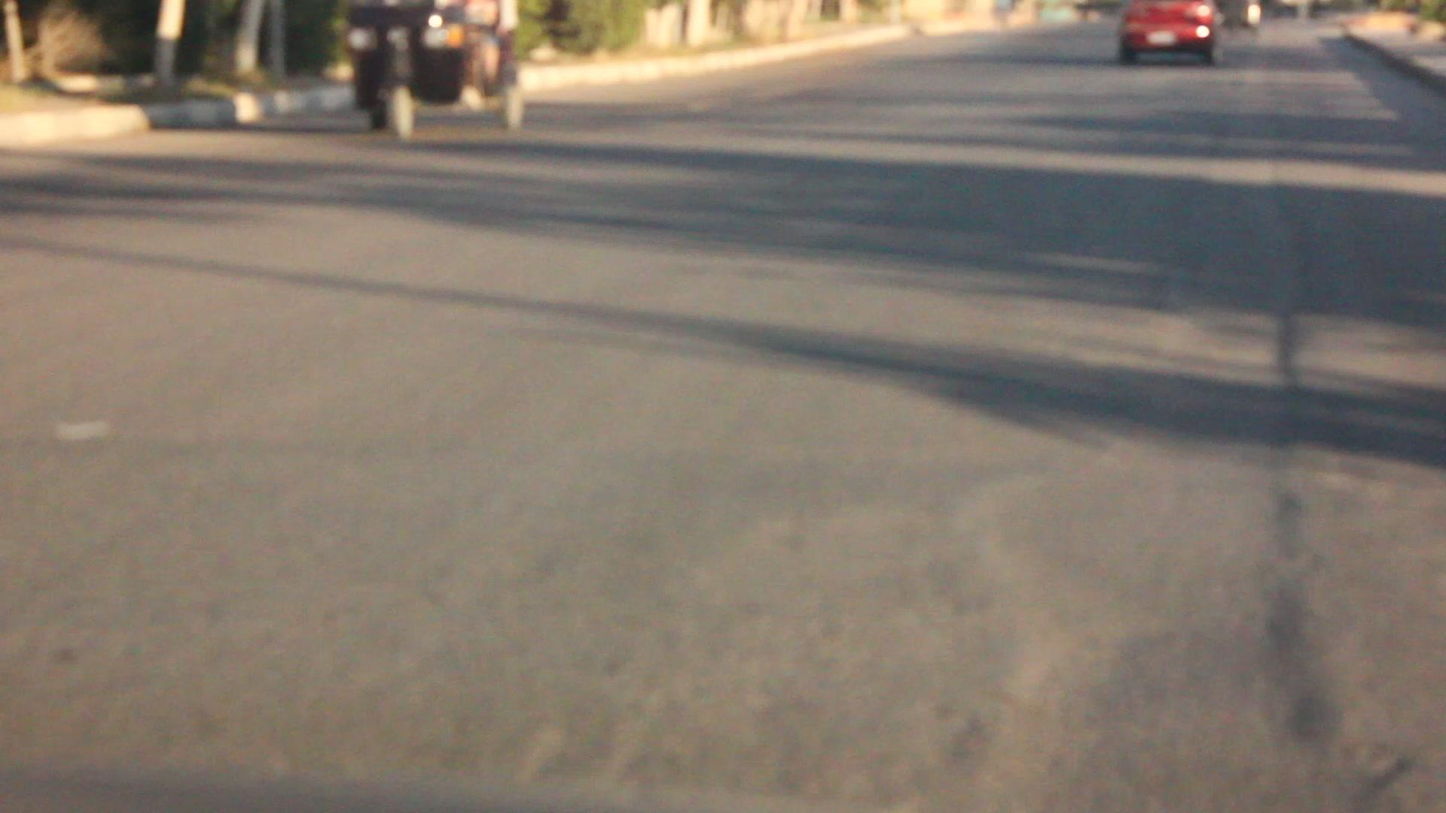Pothole: (947, 175, 1386, 805)
